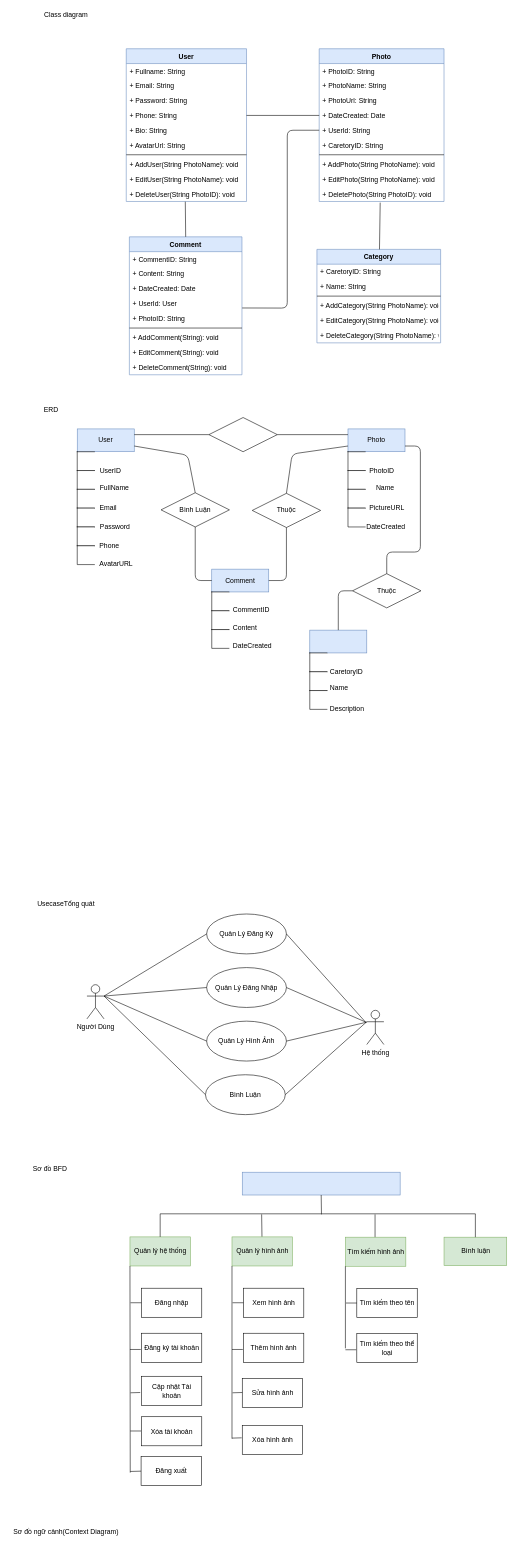
The diagram is 516 pixels wide and 1546 high, and some of its shapes have lost their labels. Each missing label, with the box of its shape:
Caretory: (309, 630, 367, 653)
Phần mềm lưu trữ và chia sẻ hình ảnh: (242, 1172, 400, 1195)
Tạo: (208, 417, 277, 452)
